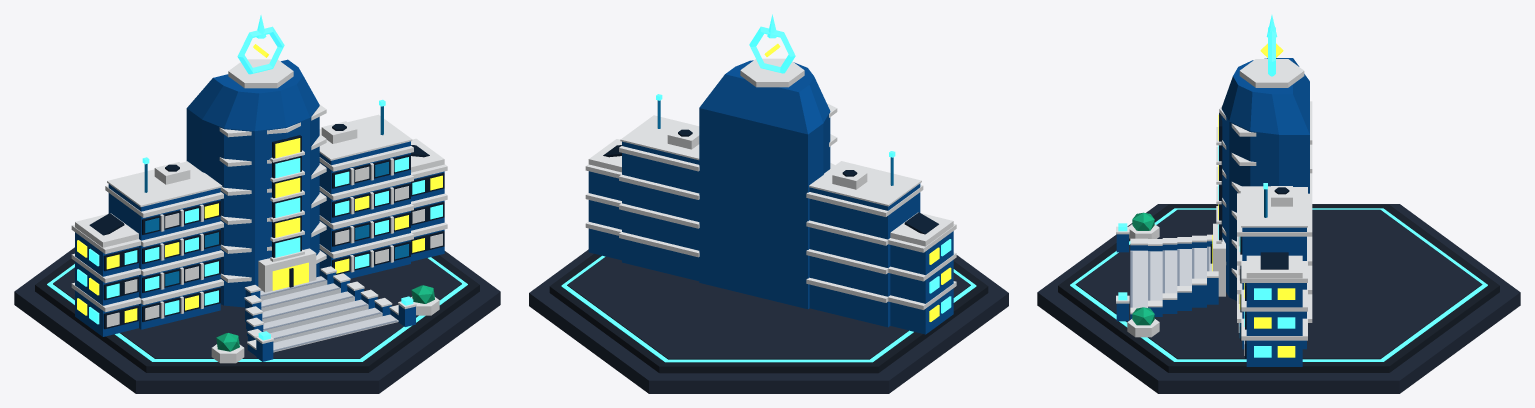
The model's file is hcmut_hq.glb.
The picture shows the model from 3 angles, left to right: view 1: azimuth 30°, elevation 25°; view 2: azimuth 150°, elevation 25°; view 3: azimuth 270°, elevation 25°; orthographic projection.
Visible parts, largest first — view 1: Center_Core_Tower, Pedestal_Hex_Plinth, Pedestal_Island, Pedestal_Hex_Podium, Wing_Inner_Mass_L, Wing_Inner_Mass_R, Wing_Outer_Mass_L, Roof_Coping_Inner_L, Roof_Coping_Inner_R, Pedestal_Glow_Ring, Crest_Base_Platform, GrandStair_Step_3 (+37 smaller); view 2: Center_Core_Tower, Pedestal_Island, Pedestal_Hex_Plinth, Wing_Inner_Mass_L, Wing_Inner_Mass_R, Pedestal_Hex_Podium, Wing_Outer_Mass_L, Wing_Outer_Mass_R, Roof_Coping_Inner_L, Pedestal_Glow_Ring, Roof_Coping_Inner_R, Crest_Base_Platform (+18 smaller); view 3: Pedestal_Island, Pedestal_Hex_Plinth, Center_Core_Tower, Pedestal_Hex_Podium, Wing_Outer_Mass_R, Pedestal_Glow_Ring, Roof_Coping_Inner_R, Wing_Inner_Mass_R, Crest_Base_Platform, Roof_Parapet_Outer_R, GrandStair_Step_5, Wing_Slab_Inner_R_F4 (+9 smaller).
Boxes of the visible parts, left/top/right/bottom form: Center_Core_Tower: left=186, top=59, right=319, bottom=307; Pedestal_Hex_Plinth: left=14, top=247, right=500, bottom=393; Pedestal_Island: left=53, top=258, right=461, bottom=358; Pedestal_Hex_Podium: left=35, top=255, right=479, bottom=372; Wing_Inner_Mass_L: left=108, top=193, right=220, bottom=329; Wing_Inner_Mass_R: left=319, top=153, right=410, bottom=278; Wing_Outer_Mass_L: left=75, top=232, right=138, bottom=336; Roof_Coping_Inner_L: left=107, top=161, right=222, bottom=206; Roof_Coping_Inner_R: left=319, top=114, right=412, bottom=160; Pedestal_Glow_Ring: left=47, top=257, right=467, bottom=361; Crest_Base_Platform: left=228, top=59, right=293, bottom=88; GrandStair_Step_3: left=263, top=299, right=368, bottom=333; Center_Core_Tower: left=699, top=60, right=830, bottom=309; Pedestal_Island: left=567, top=256, right=970, bottom=359; Pedestal_Hex_Plinth: left=529, top=249, right=1008, bottom=393; Wing_Inner_Mass_L: left=809, top=192, right=920, bottom=327; Wing_Inner_Mass_R: left=622, top=153, right=699, bottom=281; Pedestal_Hex_Podium: left=549, top=254, right=988, bottom=373; Wing_Outer_Mass_L: left=890, top=231, right=953, bottom=334; Wing_Outer_Mass_R: left=588, top=171, right=621, bottom=260; Roof_Coping_Inner_L: left=809, top=161, right=921, bottom=206; Pedestal_Glow_Ring: left=561, top=255, right=976, bottom=362; Roof_Coping_Inner_R: left=620, top=115, right=699, bottom=160; Crest_Base_Platform: left=740, top=58, right=804, bottom=87; Pedestal_Island: left=1075, top=209, right=1482, bottom=359; Pedestal_Hex_Plinth: left=1037, top=204, right=1520, bottom=393; Center_Core_Tower: left=1221, top=58, right=1309, bottom=300; Pedestal_Hex_Podium: left=1058, top=204, right=1499, bottom=372; Wing_Outer_Mass_R: left=1246, top=283, right=1302, bottom=366; Pedestal_Glow_Ring: left=1070, top=208, right=1487, bottom=361; Roof_Coping_Inner_R: left=1241, top=186, right=1307, bottom=227; Wing_Inner_Mass_R: left=1242, top=236, right=1306, bottom=349; Crest_Base_Platform: left=1239, top=59, right=1304, bottom=87; Roof_Parapet_Outer_R: left=1246, top=255, right=1302, bottom=278; GrandStair_Step_5: left=1130, top=250, right=1147, bottom=307; Wing_Slab_Inner_R_F4: left=1237, top=193, right=1312, bottom=236.
Bounding box in the file's own units: 17.32 × 13.32 × 20.
